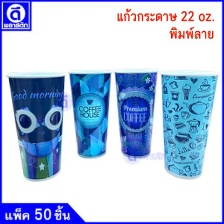paper_cup: (3, 68, 69, 184), (156, 64, 220, 183), (111, 66, 160, 160), (65, 66, 114, 160)
